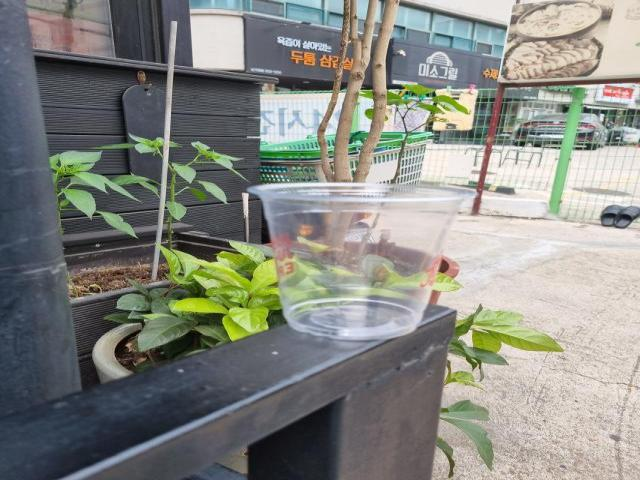cup: (239, 172, 492, 347)
